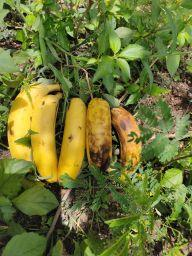banana: (6, 80, 63, 163), (29, 90, 65, 184), (56, 96, 88, 191), (85, 89, 113, 179), (109, 105, 144, 170)
